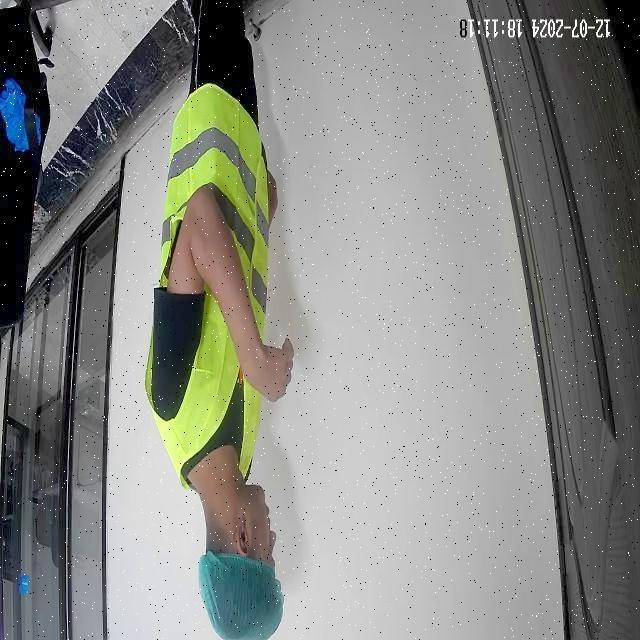gloves: (200, 561, 286, 638)
no_apron: (250, 326, 300, 418)
no_hairnet: (236, 488, 274, 538)
